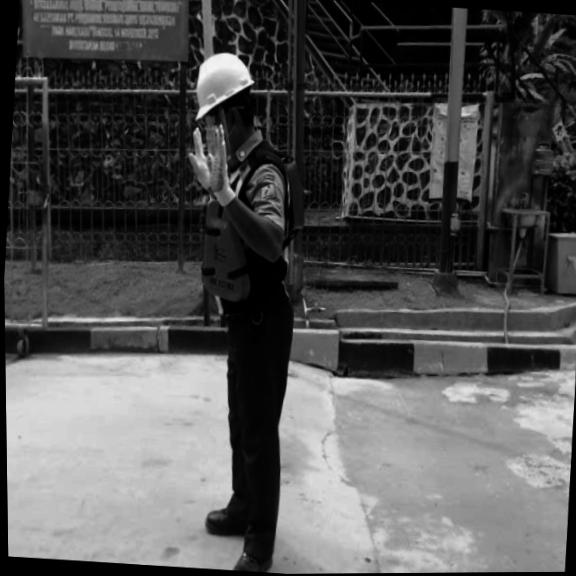safety_vest: (195, 149, 315, 308)
